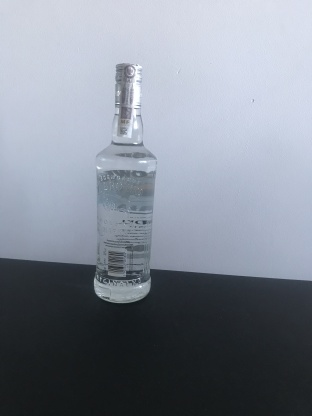nakretka: (113, 59, 144, 111)
